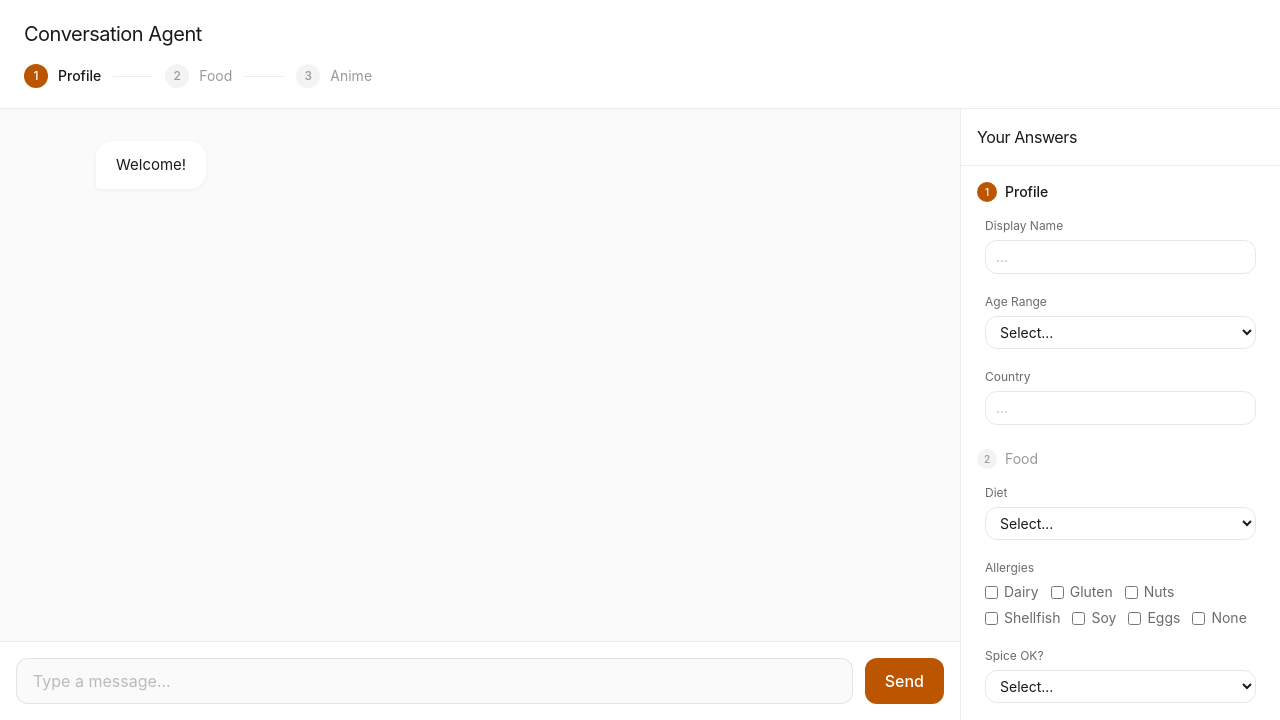
Test: App › send message → user and assistant messages appear
This screenshot has width=1280, height=720.
Check: the text "Welcome!" is shown, box [96, 141, 206, 189]
Type "Hi there" into the field with placeholder "Type a message..." at (434, 681), box [16, 658, 853, 704]
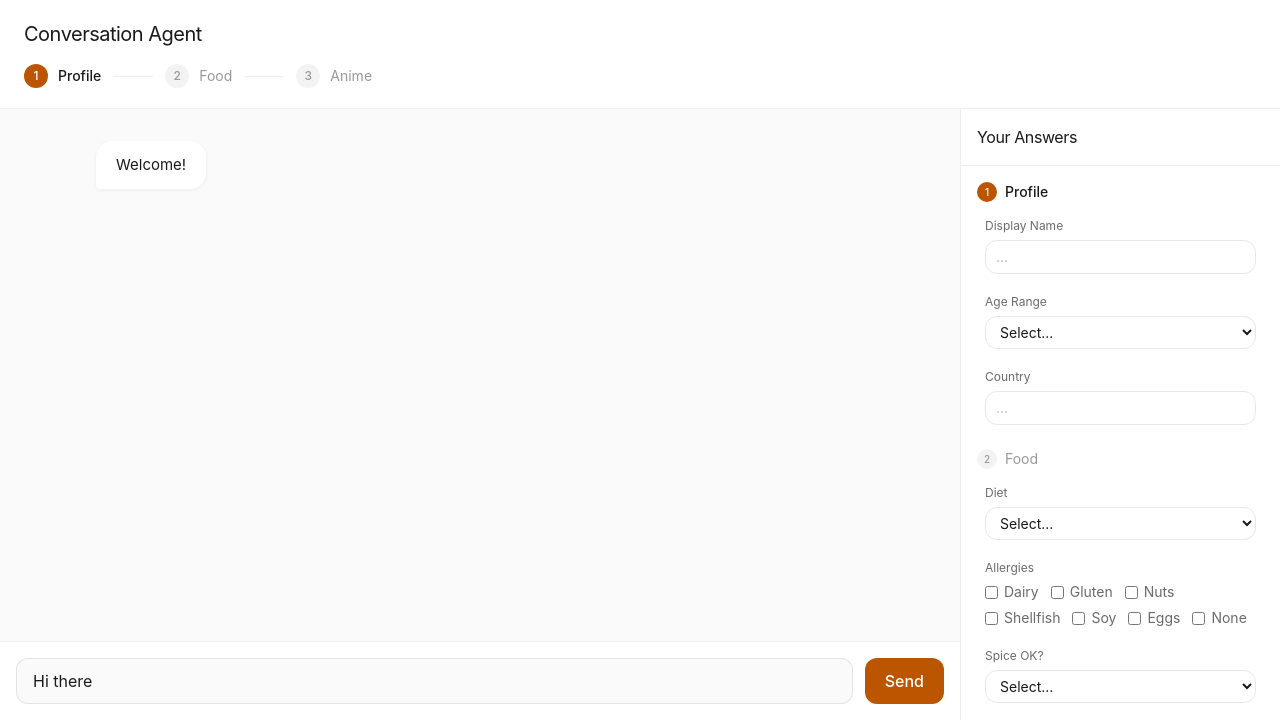
Submit the form with placeholder "Type a message...", box [16, 658, 944, 704]
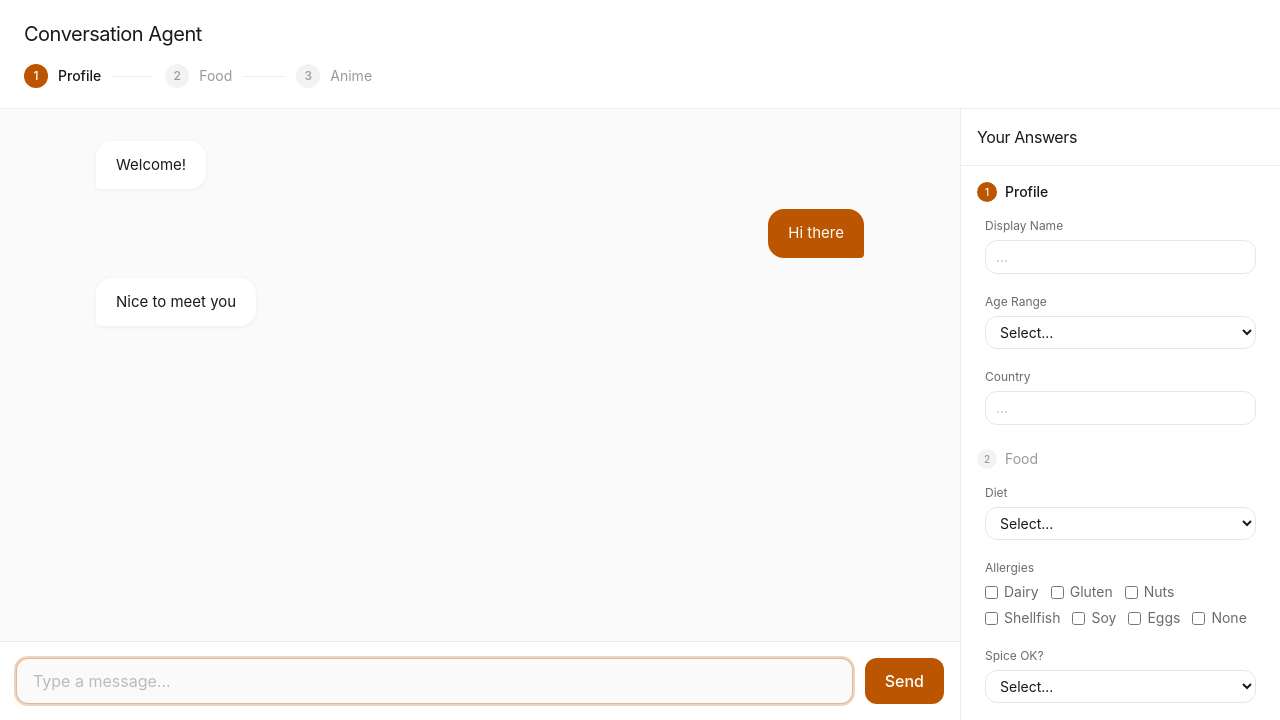
Check: the text "Hi there" is shown, box [768, 209, 864, 258]
Check: the text "Nice to meet you" is shown, box [96, 278, 256, 326]
